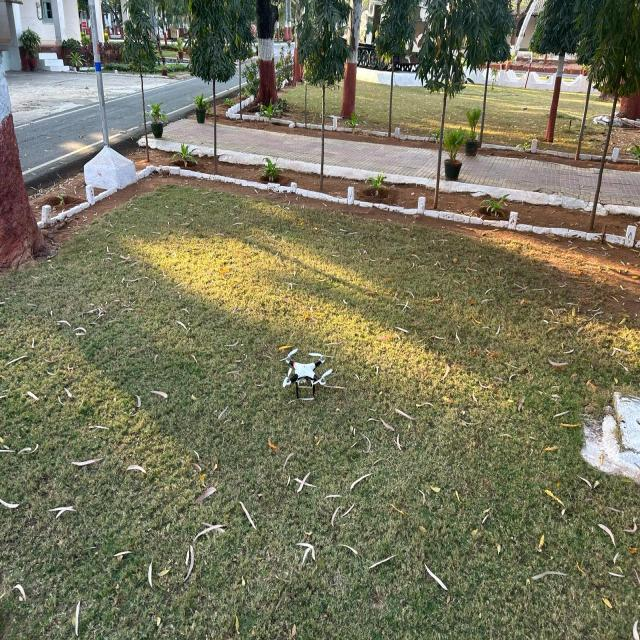drone: (261, 308, 361, 438)
